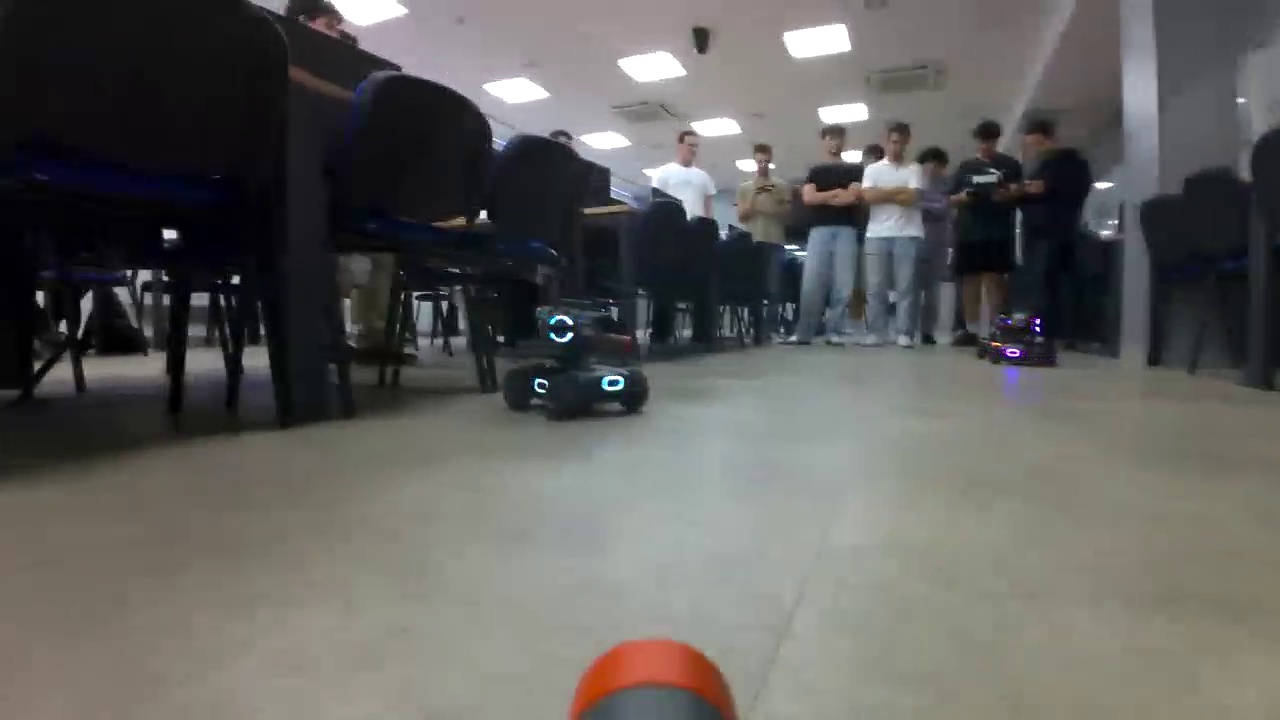robot: (503, 298, 650, 412), (975, 312, 1058, 365)
